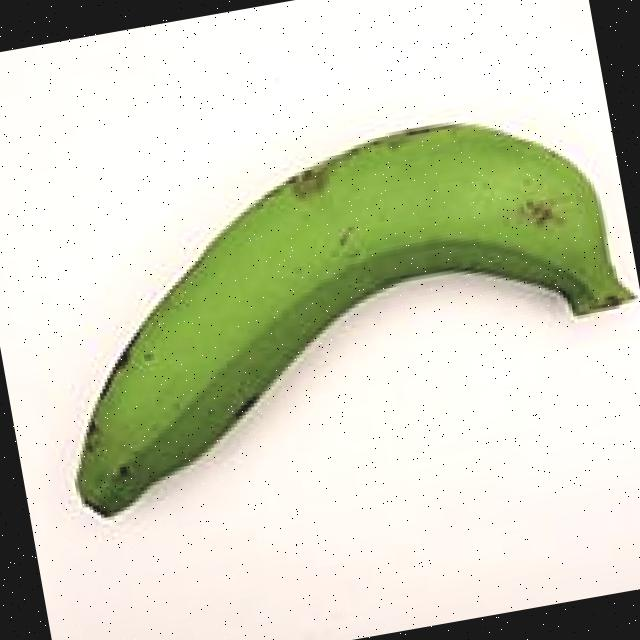Raw: (0, 38, 640, 564)
